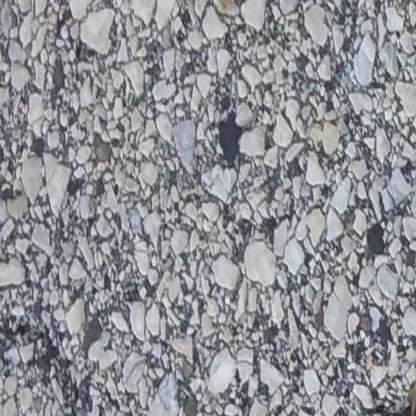Cracks: (0, 313, 85, 416), (343, 361, 416, 416)
